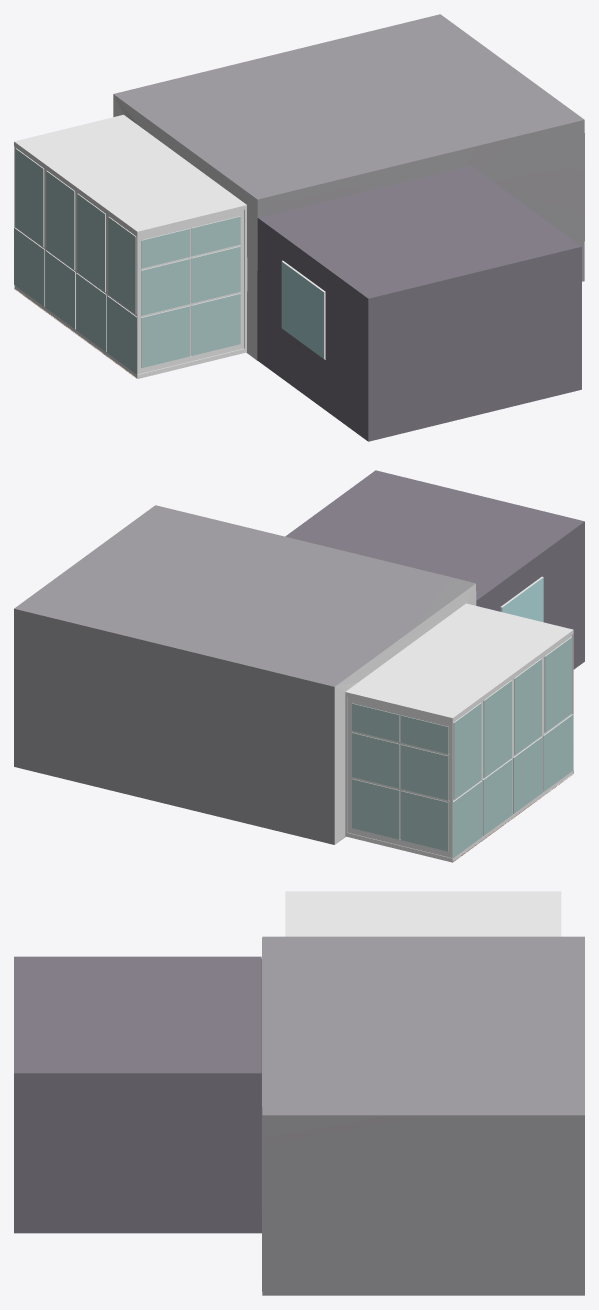
The model's file is ClearRoom.fbx.
3 views of the same model, one above another, from view 1: azimuth 30°, elevation 25°; view 2: azimuth 150°, elevation 25°; view 3: azimuth 270°, elevation 25° (orthographic). The views are drawn at different scales.
Visible parts, largest first — view 1: Cube.001; view 2: Cube.001; view 3: Cube.001.
Boxes of the visible parts, left/top/right/bottom form: Cube.001: left=14, top=14, right=584, bottom=441; Cube.001: left=14, top=470, right=584, bottom=862; Cube.001: left=14, top=891, right=584, bottom=1295.
Size of the model in its own units: 52.39 by 51.81 by 18.34.
